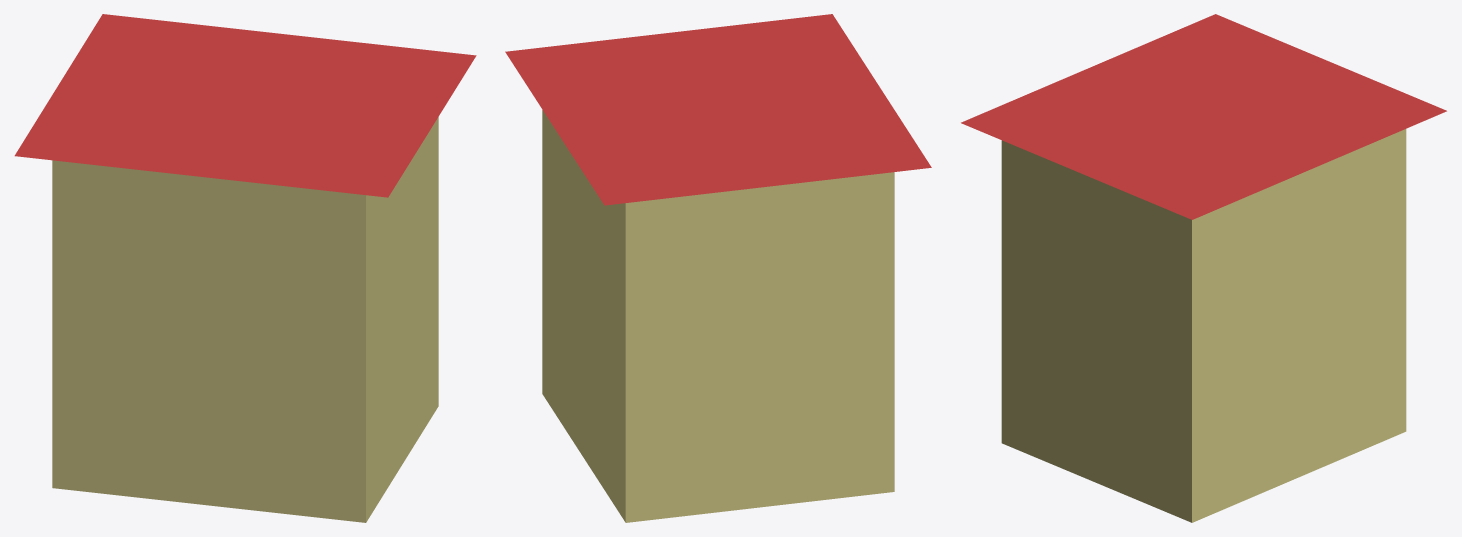
The picture shows the model from 3 angles, left to right: view 1: azimuth 30°, elevation 25°; view 2: azimuth 150°, elevation 25°; view 3: azimuth 270°, elevation 25°; orthographic projection. The views are drawn at different scales.
Bounding box in the file's own units: 8.38 × 8.37 × 6.08.
